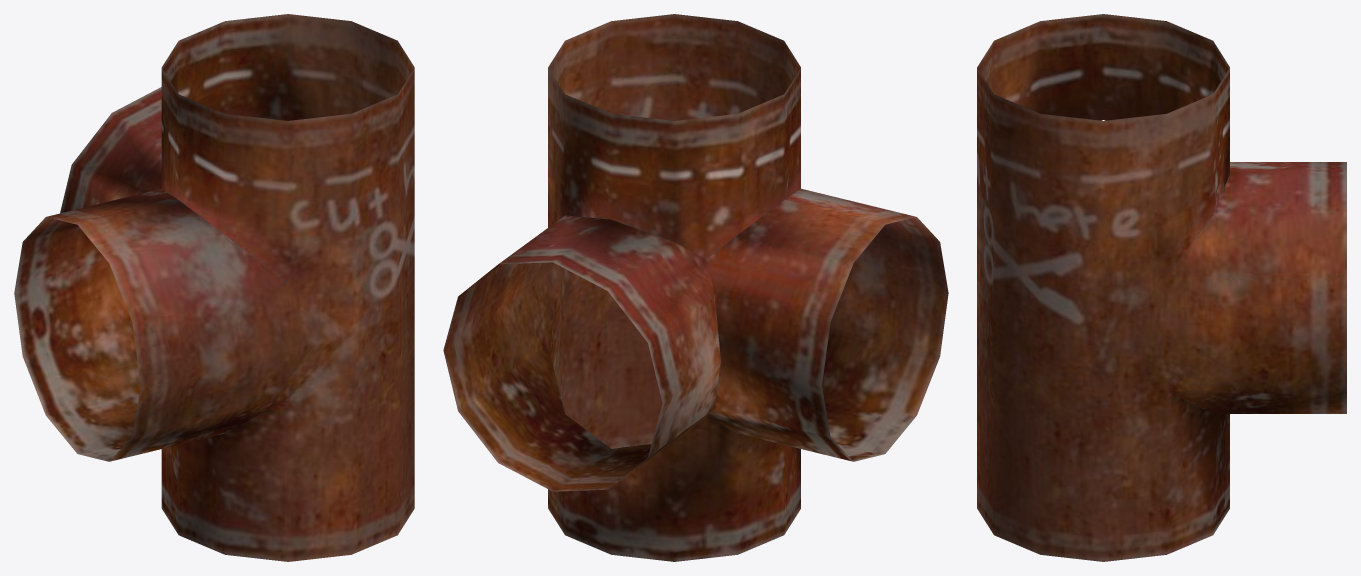
File: stylized_pipe_06.glb
The picture shows the model from 3 angles, left to right: view 1: azimuth 30°, elevation 25°; view 2: azimuth 150°, elevation 25°; view 3: azimuth 270°, elevation 25°; orthographic projection.
Parts seen in each view (by area): view 1: stylized_pipe_06; view 2: stylized_pipe_06; view 3: stylized_pipe_06.
Part boxes in pixels (x1,y1,x2,y2): stylized_pipe_06: (14,14,414,561); stylized_pipe_06: (443,14,948,561); stylized_pipe_06: (977,14,1346,561).
Size of what is drawn, in the model's own units: 0.1216 by 0.16 by 0.1216.
1 material, 1 textured.
